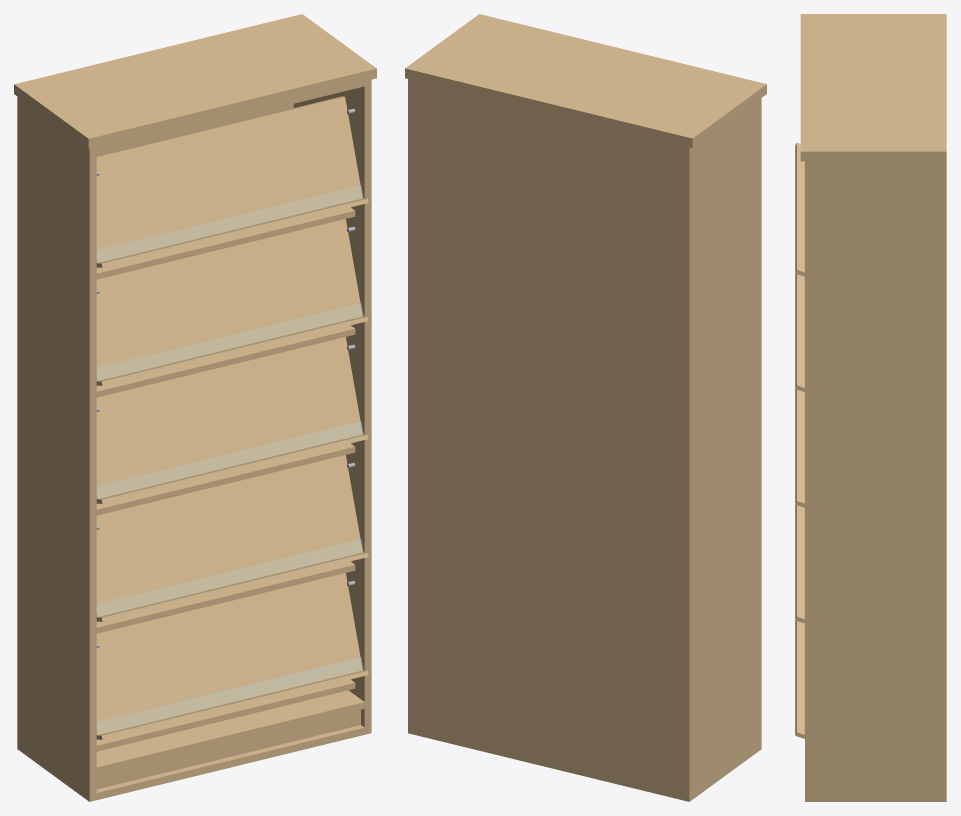
Rendered from 082_periodical_display_shelving.glb.
3 renders of one model, left to right at view 1: azimuth 30°, elevation 25°; view 2: azimuth 150°, elevation 25°; view 3: azimuth 270°, elevation 25°, orthographic. The views are drawn at different scales.
Parts seen in each view (by area): view 1: 000_carcass_side_l, 032_flip_up_display_shelf_5, 026_flip_up_display_shelf_4, 014_flip_up_display_shelf_2, 020_flip_up_display_shelf_3, 008_flip_up_display_shelf_1, 037_crown, 001_carcass_side_r, 006_base_shelf, 005_plinth, 009_magazine_lip_1, 015_magazine_lip_2 (+16 smaller); view 2: 004_carcass_back_panel, 000_carcass_side_l, 037_crown, 001_carcass_side_r, 002_carcass_top; view 3: 001_carcass_side_r, 037_crown, 034_magazine_lip_ledge_5, 010_magazine_lip_ledge_1, 016_magazine_lip_ledge_2, 022_magazine_lip_ledge_3, 028_magazine_lip_ledge_4, 002_carcass_top.
Boxes of the visible parts, <box> form: 000_carcass_side_l: <box>17,97,96,801</box>; 032_flip_up_display_shelf_5: <box>96,96,362,267</box>; 026_flip_up_display_shelf_4: <box>96,219,362,385</box>; 014_flip_up_display_shelf_2: <box>96,455,362,621</box>; 020_flip_up_display_shelf_3: <box>96,337,362,503</box>; 008_flip_up_display_shelf_1: <box>96,573,362,739</box>; 037_crown: <box>14,14,376,148</box>; 001_carcass_side_r: <box>293,79,371,734</box>; 006_base_shelf: <box>96,690,364,773</box>; 005_plinth: <box>96,709,360,789</box>; 009_magazine_lip_1: <box>97,657,363,738</box>; 015_magazine_lip_2: <box>97,539,363,620</box>; 004_carcass_back_panel: <box>415,88,682,800</box>; 000_carcass_side_l: <box>682,98,761,801</box>; 037_crown: <box>405,14,766,148</box>; 001_carcass_side_r: <box>408,79,414,734</box>; 002_carcass_top: <box>408,80,760,153</box>; 001_carcass_side_r: <box>805,161,946,801</box>; 037_crown: <box>800,14,946,161</box>; 034_magazine_lip_ledge_5: <box>795,143,804,276</box>; 010_magazine_lip_ledge_1: <box>795,620,804,738</box>; 016_magazine_lip_ledge_2: <box>795,505,804,623</box>; 022_magazine_lip_ledge_3: <box>795,389,804,507</box>; 028_magazine_lip_ledge_4: <box>795,273,804,391</box>; 002_carcass_top: <box>805,161,946,166</box>.
Bounding box in the file's own units: 0.92 × 2.03 × 0.4277.
